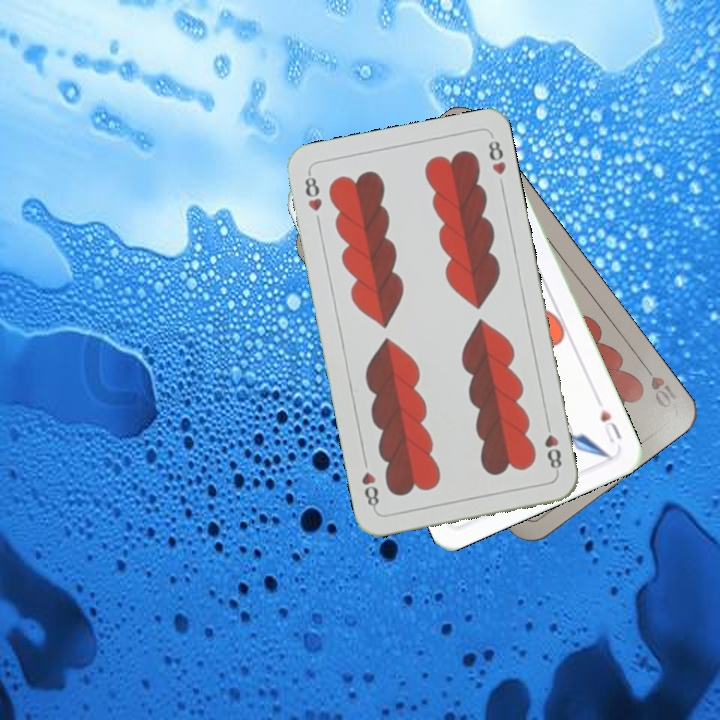H10: (637, 358, 681, 411)
H8: (540, 417, 564, 476), (300, 168, 325, 214)
HU: (596, 405, 625, 446)
